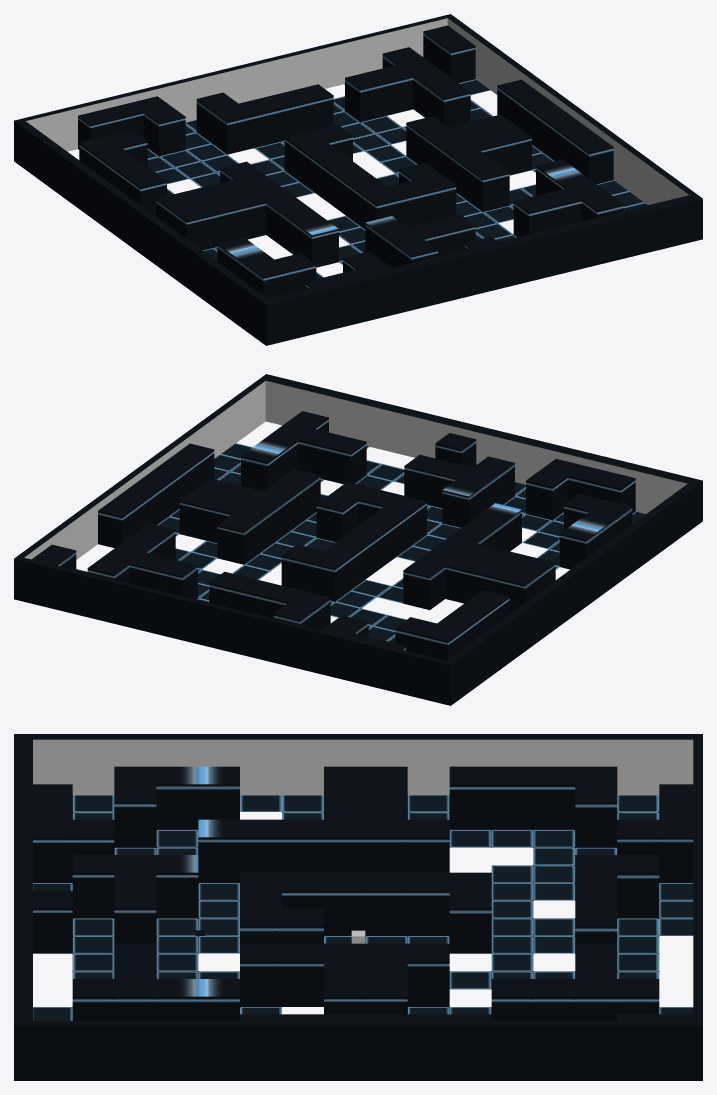
File: NewLevel1.1blend.fbx
3 renders of one model, top to bottom at view 1: azimuth 30°, elevation 25°; view 2: azimuth 150°, elevation 25°; view 3: azimuth 270°, elevation 25°, orthographic. The views are drawn at different scales.
Parts seen in each view (by area): view 1: Wall, Outerwall, Floor; view 2: Wall, Outerwall, Floor; view 3: Wall, Outerwall, Floor.
Boxes of the visible parts, x1,y1,x2,y2 form: Wall: (78,25,623,297); Outerwall: (14,14,702,345); Floor: (147,79,647,279); Wall: (32,411,635,660); Outerwall: (14,374,702,705); Floor: (76,443,645,642); Wall: (33,766,693,1020); Outerwall: (14,734,702,1080); Floor: (33,795,693,1020).
Bounding box in the file's own units: 100 × 8.92 × 100.
